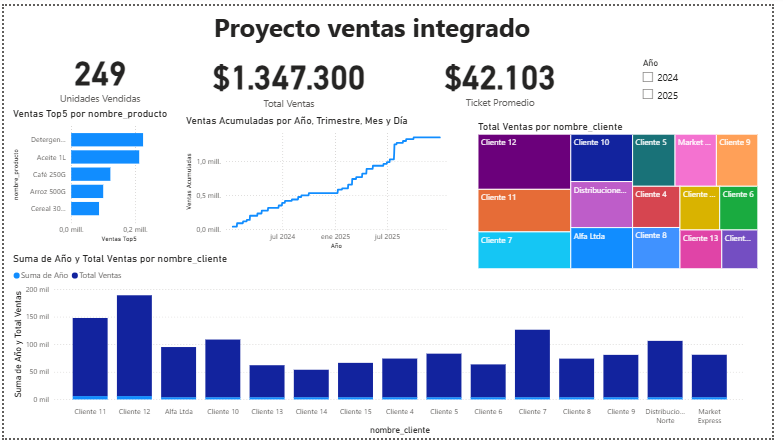

The page's visual inventory and layout, read from the dashboard file:
{"tool":"powerbi","page":{"name":"Página 1","canvas":[1280,720],"ordinal":0},"visuals":[{"type":"textbox","box":[10.3,0,1218.1,60.2],"z":0},{"type":"barChart","fields":{"Y":["Tabla_medidas.Ventas Top5"],"Category":["Ventas.nombre_producto"]},"box":[10.3,169,288,230.7],"z":1},{"type":"lineStackedColumnComboChart","fields":{"Category":["Ventas.nombre_cliente"],"Y":["Sum(Calendario.Año)","Tabla_medidas.Total Ventas"]},"box":[10.3,410,1229.9,310],"z":2},{"type":"lineChart","fields":{"Y":["Tabla_medidas.Ventas Acumuladas"],"Category":["Calendario.Date.Variación.Jerarquía de fechas.Año","Calendario.Date.Variación.Jerarquía de fechas.Trimestre","Calendario.Date.Variación.Jerarquía de fechas.Mes","Calendario.Date.Variación.Jerarquía de fechas.Día"]},"box":[298.3,179.3,454,230.7],"z":3},{"type":"treemap","fields":{"Group":["Ventas.nombre_cliente"],"Values":["Tabla_medidas.Total Ventas"]},"box":[784.7,189.6,476.1,252.7],"z":4},{"type":"card","fields":{"Values":["Tabla_medidas.Total Ventas"]},"box":[326.2,60.2,299.8,99.9],"z":5},{"type":"card","fields":{"Values":["Tabla_medidas.Unidades Vendidas"]},"box":[10.3,55.8,299.8,99.9],"z":6},{"type":"slicer","fields":{"Values":["Calendario.Año"]},"box":[1050.6,60.2,210.1,108.7],"z":8},{"type":"card","fields":{"Values":["Tabla_medidas.Ticket Promedio"]},"box":[678.9,55.8,299.8,108.7],"z":9}]}

Visuals, with their boxes in screenshot pixels (x1, y1, x2, y2), scaled from the page's 1280x720 canvas onto the 783x447 screenshot:
textbox: {"x1": 6, "y1": 0, "x2": 751, "y2": 37}
barChart - Tabla_medidas.Ventas Top5 x Ventas.nombre_producto: {"x1": 6, "y1": 105, "x2": 182, "y2": 248}
lineStackedColumnComboChart - Ventas.nombre_cliente x Sum(Calendario.Año): {"x1": 6, "y1": 255, "x2": 759, "y2": 446}
lineChart - Tabla_medidas.Ventas Acumuladas x Calendario.Date.Variación.Jerarquía de fechas.Año: {"x1": 182, "y1": 111, "x2": 460, "y2": 255}
treemap - Ventas.nombre_cliente x Tabla_medidas.Total Ventas: {"x1": 480, "y1": 118, "x2": 771, "y2": 275}
card - Tabla_medidas.Total Ventas: {"x1": 200, "y1": 37, "x2": 383, "y2": 99}
card - Tabla_medidas.Unidades Vendidas: {"x1": 6, "y1": 35, "x2": 190, "y2": 97}
slicer - Calendario.Año: {"x1": 643, "y1": 37, "x2": 771, "y2": 105}
card - Tabla_medidas.Ticket Promedio: {"x1": 415, "y1": 35, "x2": 599, "y2": 102}
